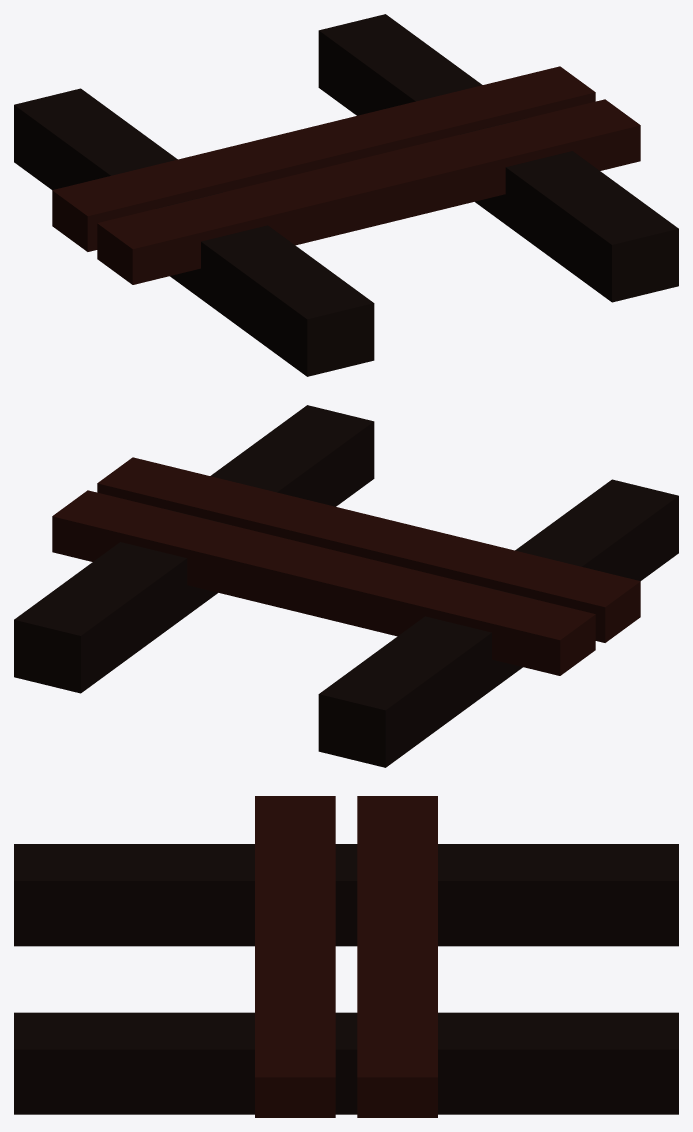
The model's file is tablas_pequeña.fbx.
The picture shows the model from 3 angles, top to bottom: view 1: azimuth 30°, elevation 25°; view 2: azimuth 150°, elevation 25°; view 3: azimuth 270°, elevation 25°; orthographic projection. The views are drawn at different scales.
Visible parts, largest first — view 1: tablas_pequeña; view 2: tablas_pequeña; view 3: tablas_pequeña.
Part boxes in pixels (<box>): tablas_pequeña: <box>14,14,678,376</box>; tablas_pequeña: <box>14,405,678,767</box>; tablas_pequeña: <box>14,796,678,1117</box>.
Bounding box in the file's own units: 400 × 50 × 400.
